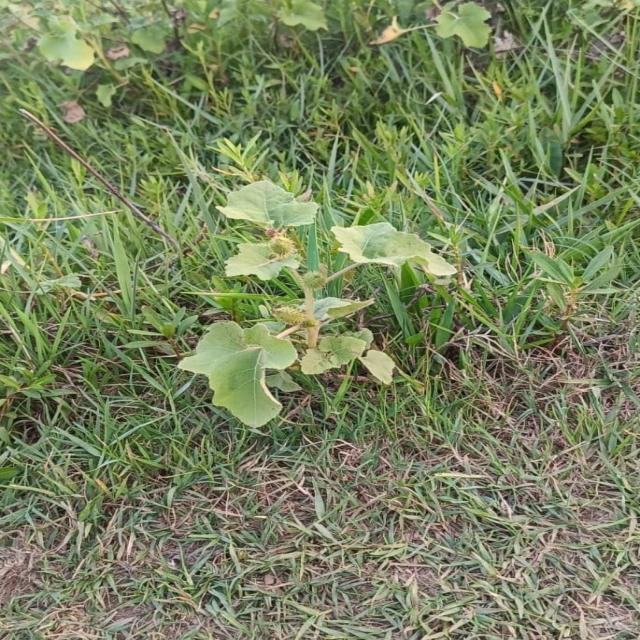weed: (178, 180, 456, 427)
